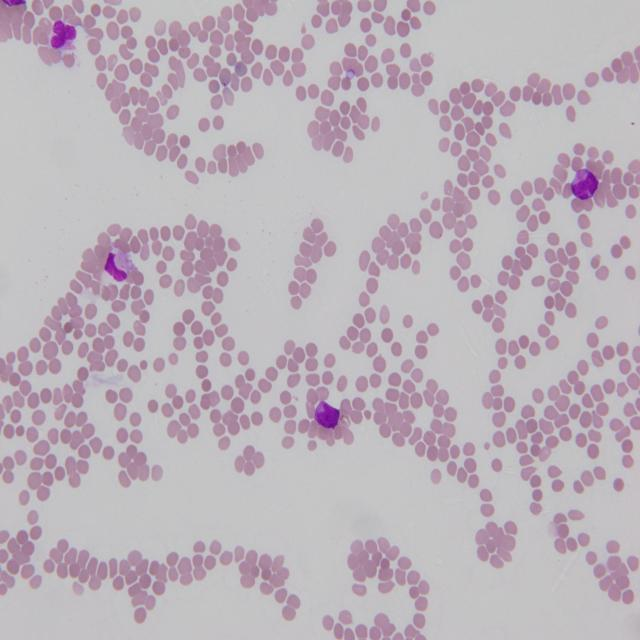cell: (105, 247, 135, 282), (49, 18, 77, 50), (571, 169, 599, 199), (315, 402, 340, 429)
